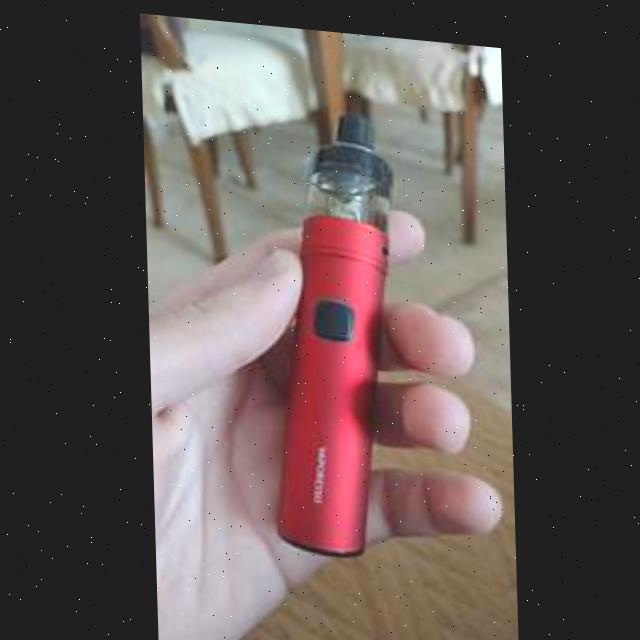vape: (259, 95, 403, 561)
